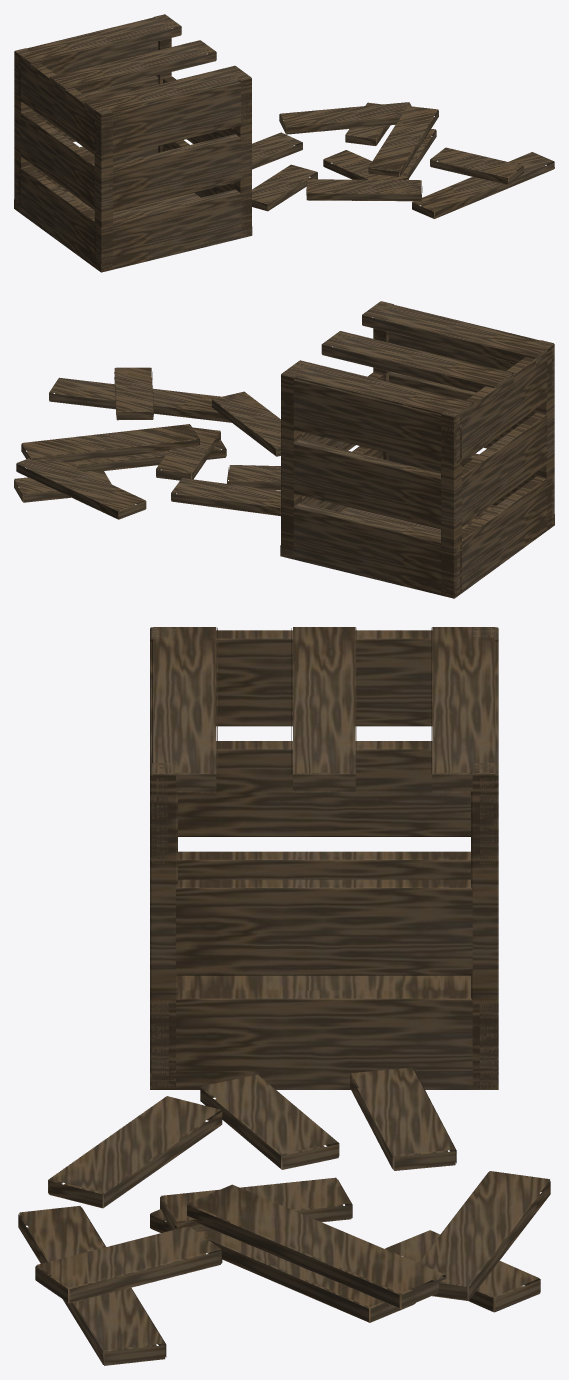
The model's file is BR34_SmashedCrates.glb.
The picture shows the model from 3 angles, top to bottom: view 1: azimuth 30°, elevation 25°; view 2: azimuth 150°, elevation 25°; view 3: azimuth 270°, elevation 25°; orthographic projection. The views are drawn at different scales.
Visible parts, largest first — view 1: BR34_SmashedCrates; view 2: BR34_SmashedCrates; view 3: BR34_SmashedCrates.
Part boxes in pixels (left/top/right/bottom): BR34_SmashedCrates: left=14, top=14, right=554, bottom=272; BR34_SmashedCrates: left=14, top=301, right=554, bottom=598; BR34_SmashedCrates: left=18, top=627, right=550, bottom=1365.
Size of the model in its own units: 0.8 by 0.2732 by 0.417.
1 material, 1 textured.
